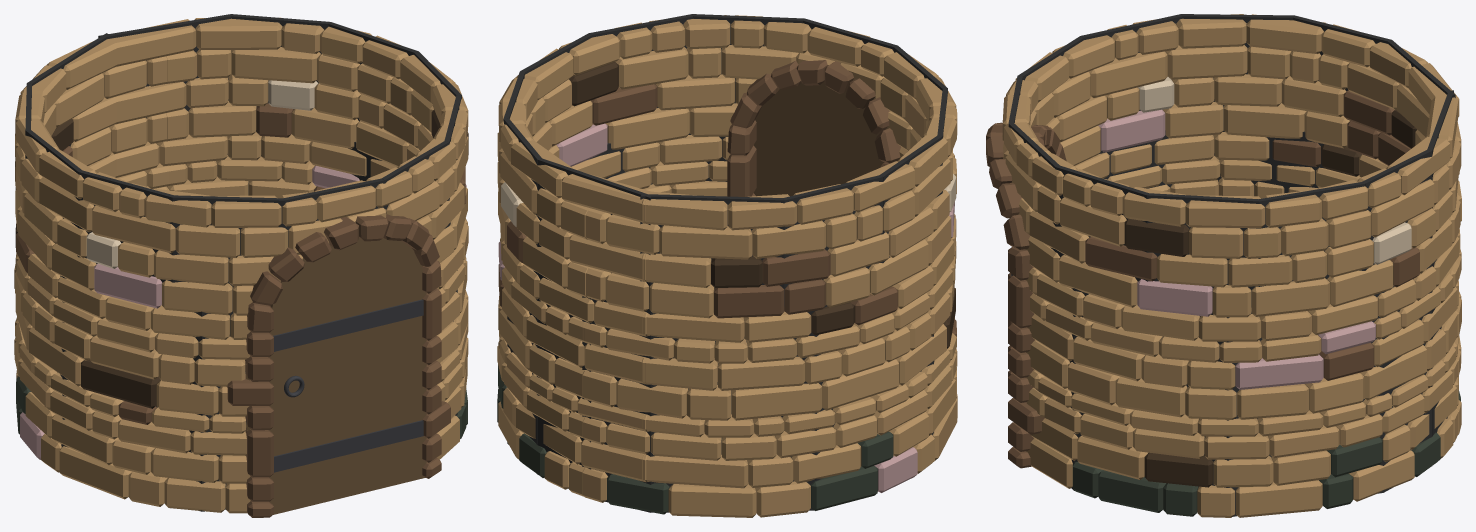
File: tower-base-with-door.glb
3 renders of one model, left to right at view 1: azimuth 30°, elevation 25°; view 2: azimuth 150°, elevation 25°; view 3: azimuth 270°, elevation 25°, orthographic.
Visible parts, largest first — view 1: Wall.282, Cube, Wall.278, Wall.583; view 2: Wall.282, Cube, Wall.583, Wall.278; view 3: Wall.282, Wall.583, Wall.278.
Part boxes in pixels (x1,y1,x2,y2): Wall.282: (14, 17, 468, 513); Cube: (268, 238, 426, 514); Wall.278: (227, 214, 450, 517); Wall.583: (25, 14, 461, 511); Wall.282: (497, 15, 957, 517); Cube: (753, 81, 884, 196); Wall.583: (503, 14, 947, 512); Wall.278: (727, 60, 900, 196); Wall.282: (1002, 14, 1461, 517); Wall.583: (1008, 14, 1455, 516); Wall.278: (986, 122, 1066, 468).
Size of the model in its own units: 2 by 1.51 by 2.06.
